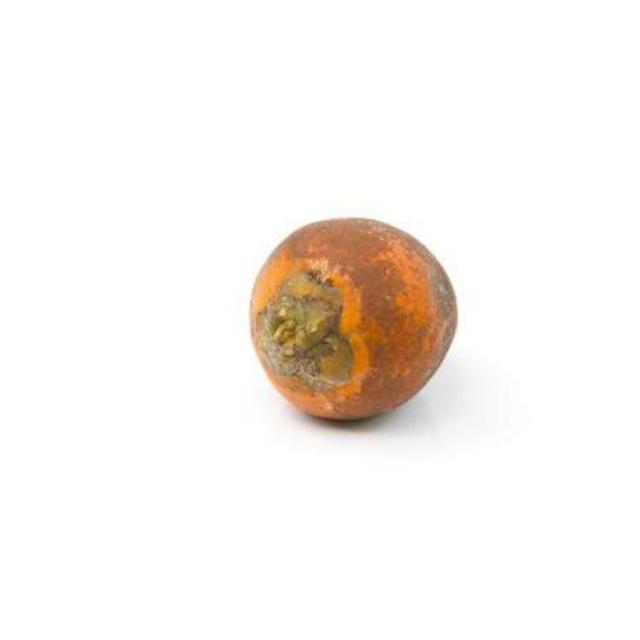good: (249, 217, 459, 423)
